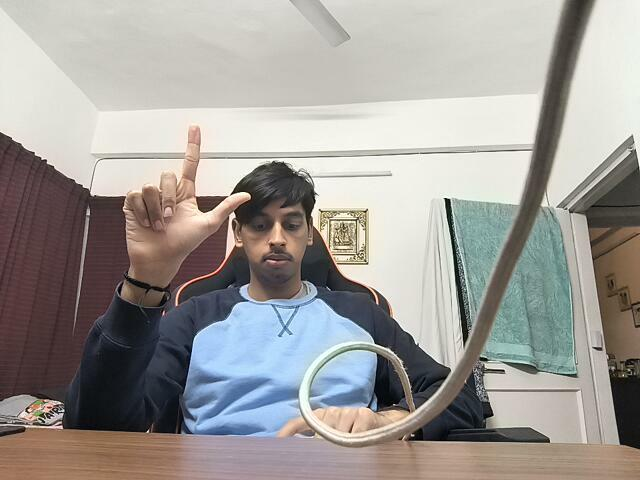UP: (104, 119, 256, 273)
